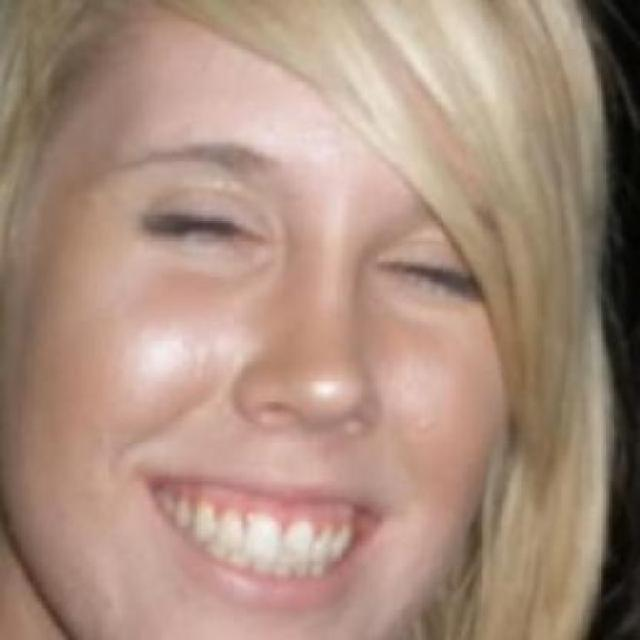drowsy: (375, 238, 476, 317), (148, 198, 268, 262)
